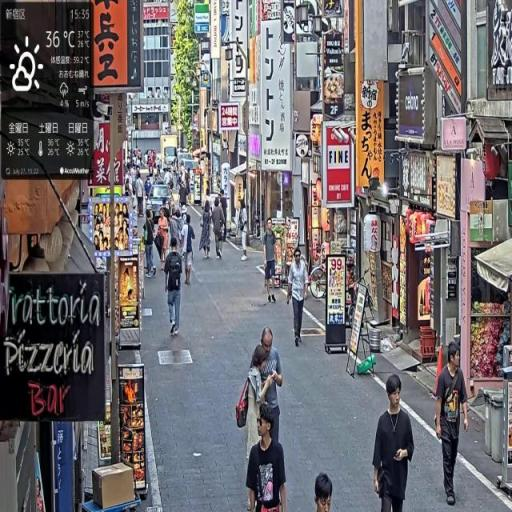person: (372, 374, 417, 512), (435, 342, 472, 509), (247, 407, 289, 512), (287, 248, 310, 349), (164, 236, 186, 336), (264, 219, 280, 302), (181, 214, 197, 289), (213, 194, 228, 262), (200, 198, 214, 259), (314, 474, 335, 512)
